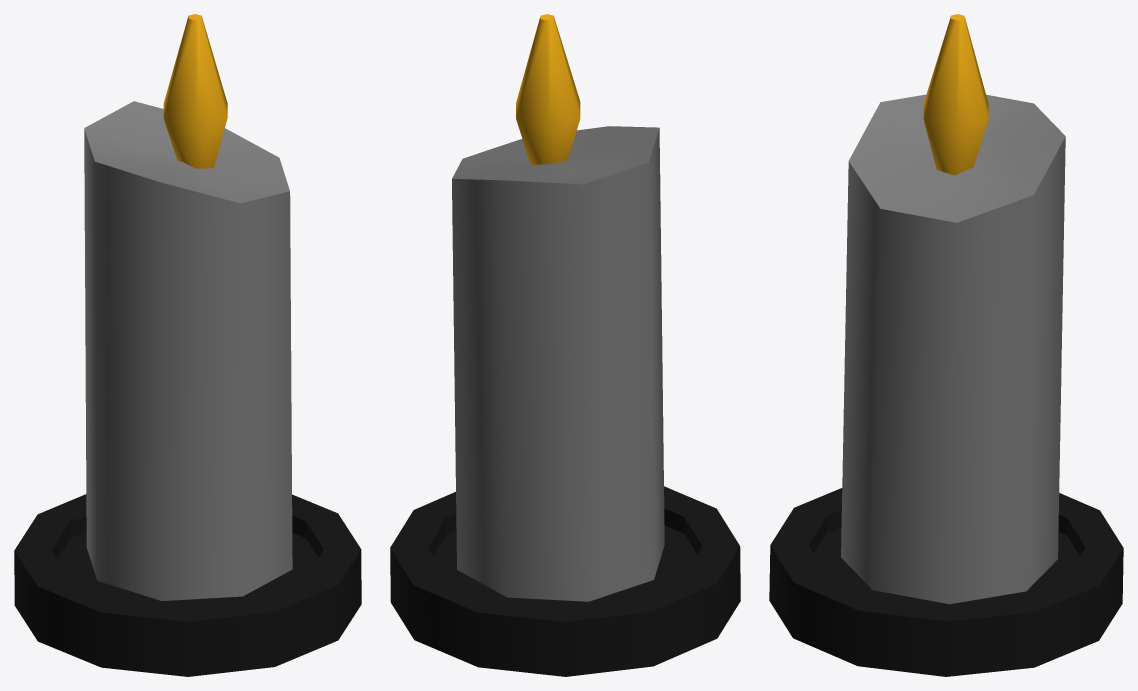
The model's file is Сandle.fbx.
The picture shows the model from 3 angles, left to right: view 1: azimuth 30°, elevation 25°; view 2: azimuth 150°, elevation 25°; view 3: azimuth 270°, elevation 25°; orthographic projection.
Visible parts, largest first — view 1: Cylinder073; view 2: Cylinder073; view 3: Cylinder073.
Part boxes in pixels (x1=…): Cylinder073: x1=14, y1=14, x2=361, y2=676; Cylinder073: x1=390, y1=14, x2=740, y2=676; Cylinder073: x1=769, y1=14, x2=1123, y2=676.
Bounding box in the file's own units: 0.9952 × 1.84 × 0.9975.
